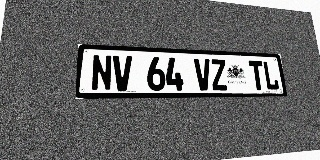4: (165, 57, 184, 91)
6: (147, 57, 166, 91)
L: (262, 61, 280, 90)
N: (91, 54, 112, 91)
T: (248, 60, 266, 90)
V: (112, 55, 132, 91), (194, 58, 212, 90)
Z: (210, 59, 228, 90)
